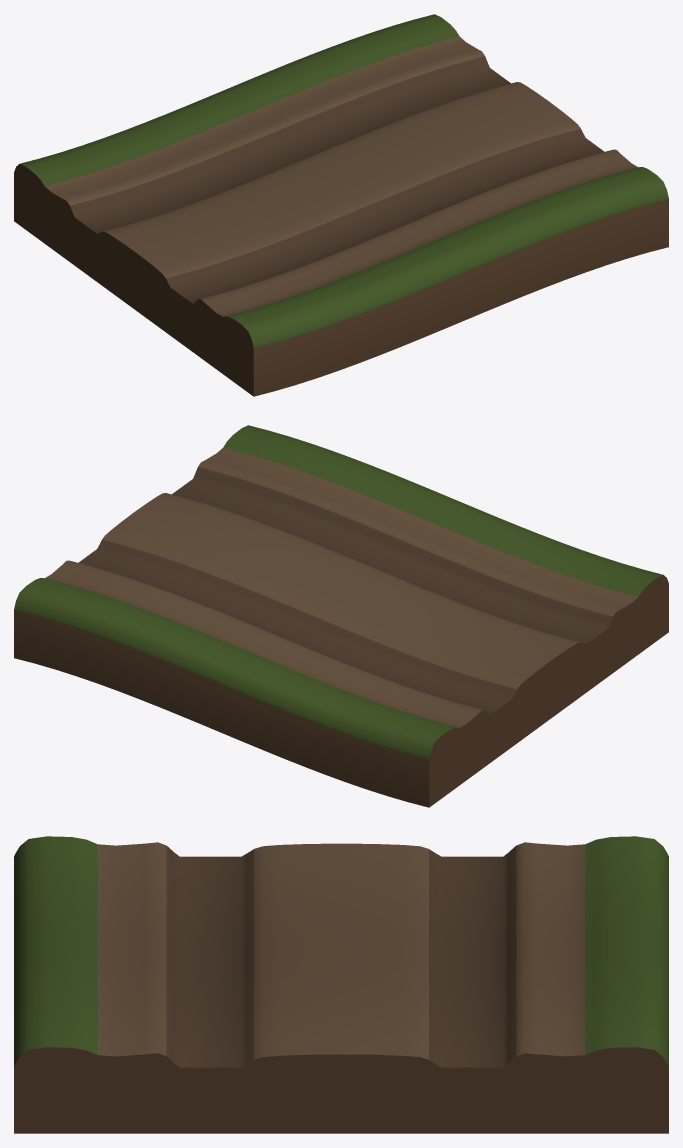
3 renders of one model, top to bottom at view 1: azimuth 30°, elevation 25°; view 2: azimuth 150°, elevation 25°; view 3: azimuth 270°, elevation 25°, orthographic. The views are drawn at different scales.
Visible parts, largest first — view 1: c0o; view 2: c0o; view 3: c0o.
Boxes of the visible parts, x1,y1,x2,y2 form: c0o: [14, 14, 668, 396]; c0o: [14, 425, 668, 807]; c0o: [14, 836, 668, 1133].
Bounding box in the file's own units: 9 × 2.31 × 9.
